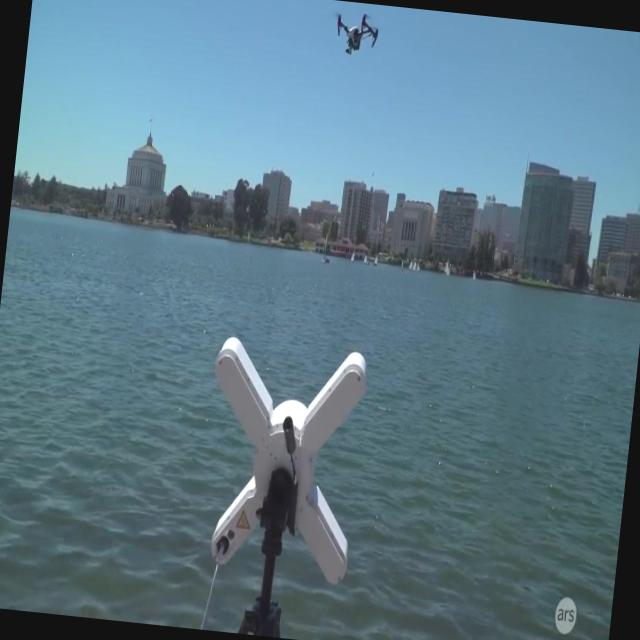drone: (332, 7, 382, 60)
